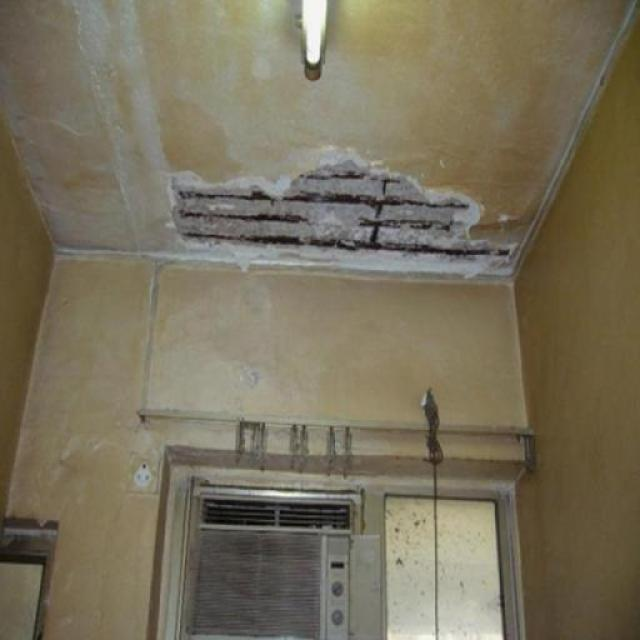D0w0: (161, 151, 512, 266)
